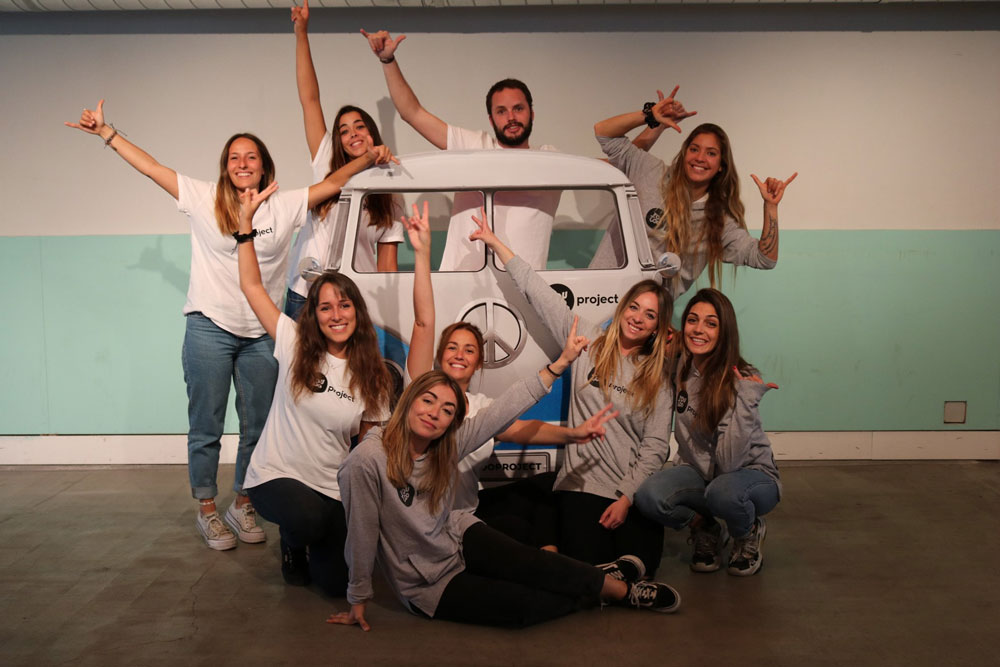person: (373, 368, 487, 520), (366, 352, 487, 494), (660, 286, 761, 429), (286, 260, 378, 390), (665, 106, 745, 245), (208, 117, 291, 223), (592, 273, 675, 375), (465, 71, 549, 154), (323, 99, 386, 175)
